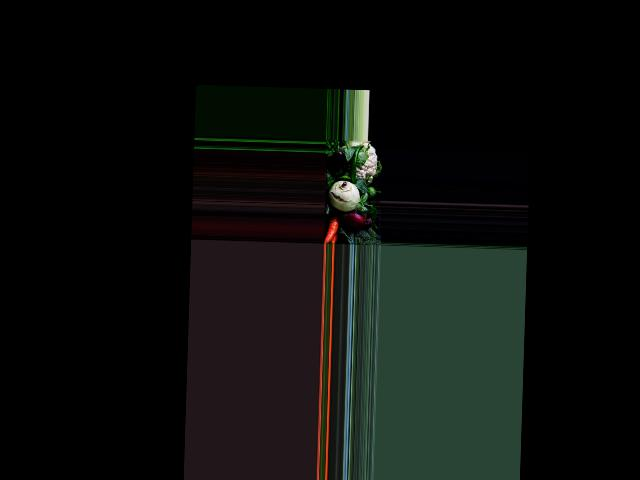carrot: (322, 215, 343, 245)
